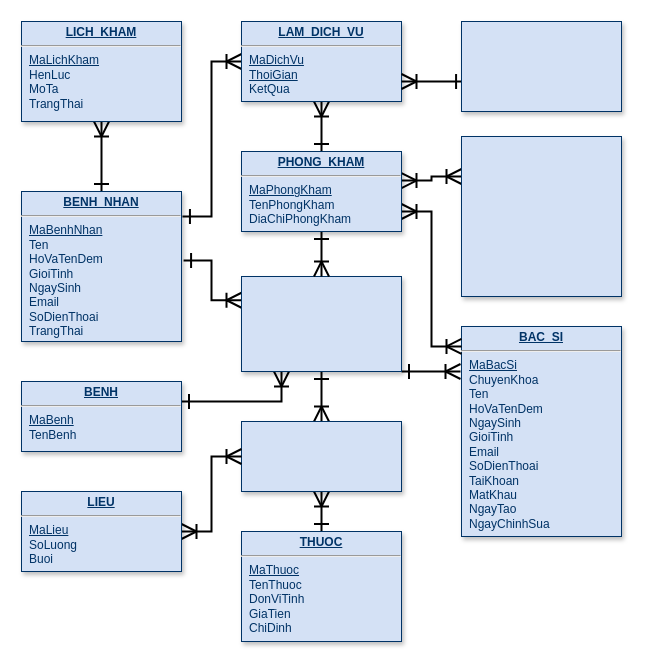
The diagram is 645 pixels wide and 666 high, and some of its shapes have lost their labels. The centre of each missing label's shape, as x and y in pixels:
DICH_VU MaDichVu TenDichVu DiaDiem ChiPhi: [542,67]
DON_THUOC MaDonThuoc SoNgaySuDung: [322,457]
NHAN_VIEN_Y_TE MaNhanVien Ten HoVaTenDem: [542,218]
TOA_THUOC MaToaThuoc NgayKham LoiDan NgayTaiKham: [322,325]
